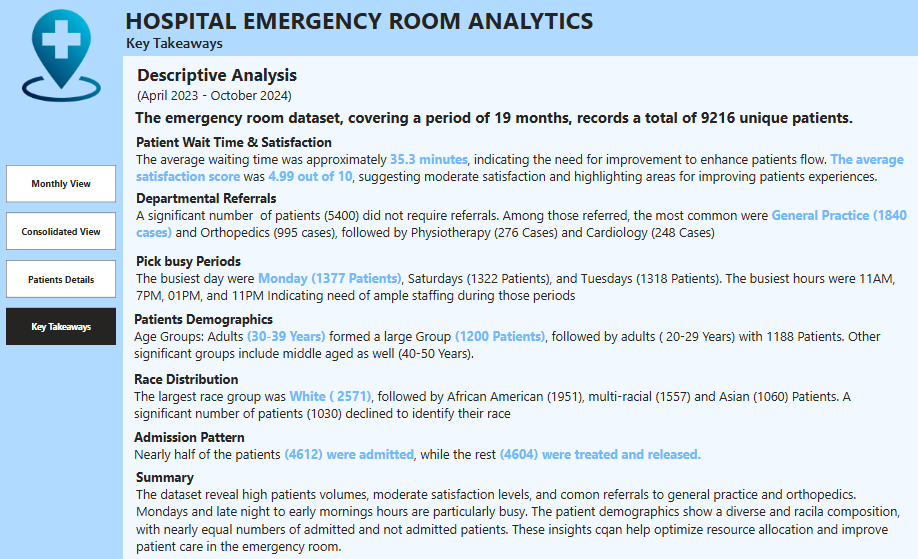

This screenshot's page, from the dashboard's own definition file:
{"tool":"powerbi","page":{"name":"Key Takeaways","canvas":[2300,1400],"ordinal":3},"visuals":[{"type":"shape","box":[0,0,310,1400],"z":0},{"type":"shape","box":[310.8,0,1988,140],"z":1000},{"type":"textbox","box":[310.8,5.6,1313.2,95.2],"z":2000},{"type":"textbox","box":[313.3,80,383.3,60],"z":3000},{"type":"image","box":[36.7,23.3,236.7,233.3],"z":5000},{"type":"textbox","box":[340,152.5,767.5,125],"z":5001},{"type":"textbox","box":[335,262.5,1942.5,75],"z":5002},{"type":"textbox","box":[337.5,327.5,1940,152.5],"z":5003},{"type":"textbox","box":[337.5,467.5,1940,157.5],"z":5004},{"type":"textbox","box":[337.5,625,1940,152.5],"z":5005},{"type":"textbox","box":[332.5,770,1945,157.5],"z":5006},{"type":"textbox","box":[332.5,1065,1940,122.5],"z":5007},{"type":"textbox","box":[332.5,920,1940,140],"z":5008},{"type":"textbox","box":[337.5,1165,1940,232.5],"z":5009},{"type":"pageNavigator","box":[17.5,412.5,275,452.5],"z":5010}]}

Visuals, with their boxes in screenshot pixels (x1, y1, x2, y2), scaled from the page's 2300x1400 canvas onto the 918x559 screenshot:
shape: bbox(0, 0, 124, 558)
shape: bbox(124, 0, 917, 56)
textbox: bbox(124, 2, 648, 40)
textbox: bbox(125, 32, 278, 56)
image: bbox(15, 9, 109, 102)
textbox: bbox(136, 61, 442, 111)
textbox: bbox(134, 105, 909, 135)
textbox: bbox(135, 131, 909, 192)
textbox: bbox(135, 187, 909, 250)
textbox: bbox(135, 250, 909, 310)
textbox: bbox(133, 307, 909, 370)
textbox: bbox(133, 425, 907, 474)
textbox: bbox(133, 367, 907, 423)
textbox: bbox(135, 465, 909, 558)
pageNavigator: bbox(7, 165, 117, 345)
